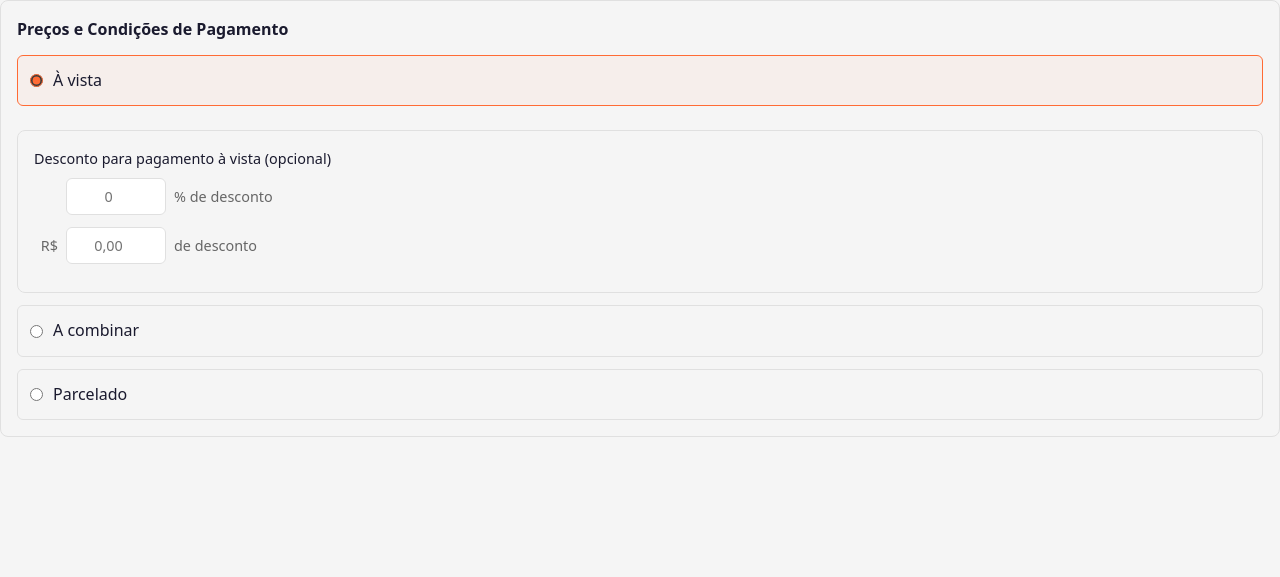
Test case: CondicaoPagamentoFormSection › Desconto em % ou em R$ › deve usar exatamente o valor digitado em R$
Type "121" into the number field with placeholder "0,00" at (116, 246), box [66, 227, 166, 264]
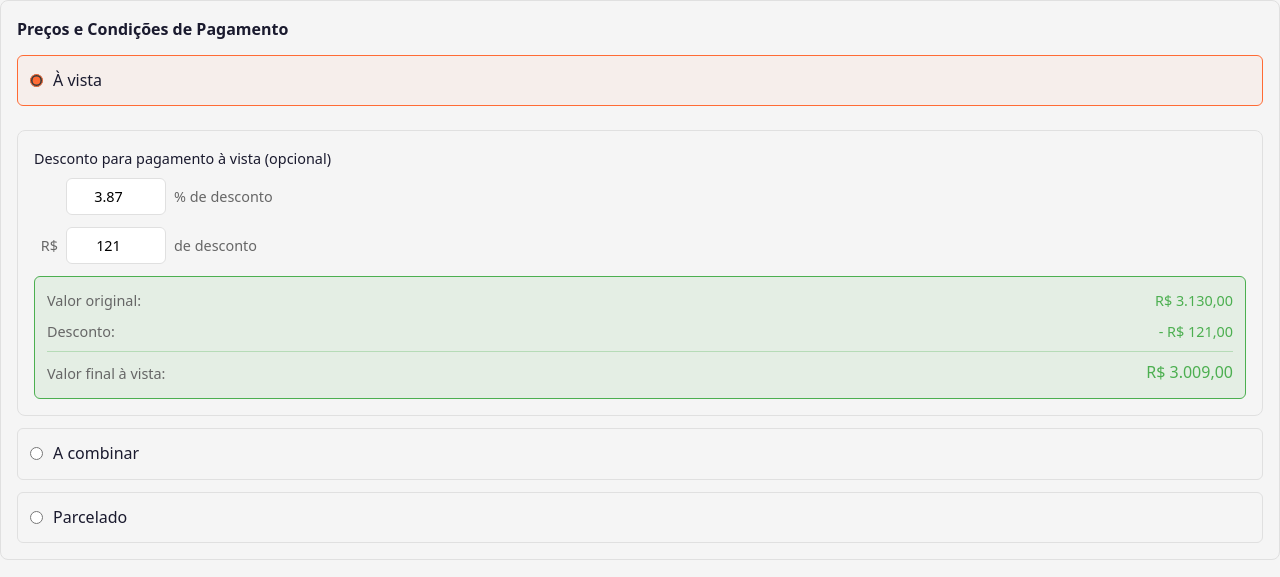
Check: the text "R$ 3.009,00" is shown, box [1146, 360, 1233, 386]
